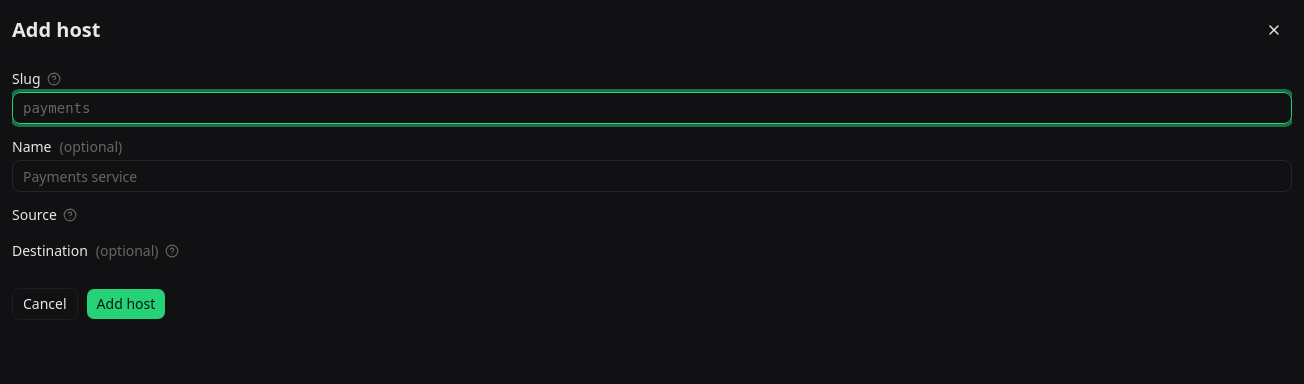
it: new host page validation › rejects missing and malformed slugs and requires a source
Click the button "Add host": x=126, y=304 86,288 -> 166,320
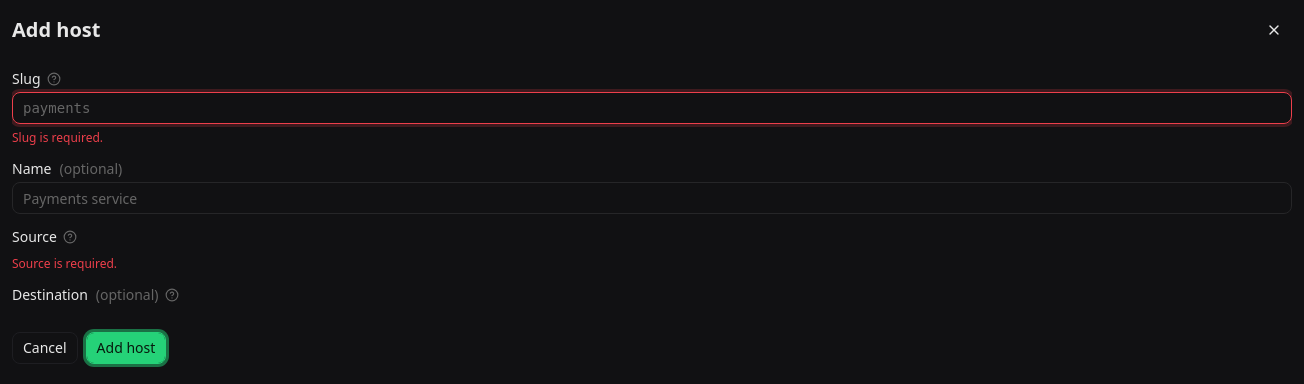
Now the text "Slug is required." is shown, box 12,129 -> 103,146
Now the text "Source is required." is shown, box 12,255 -> 117,272
In the field labelled "Slug": x=652, y=108 12,92 -> 1292,124, type "has space"
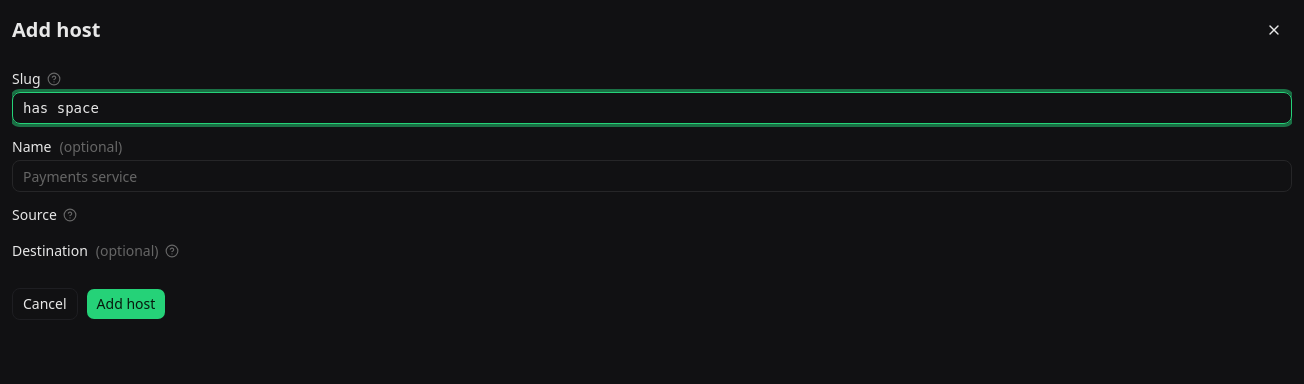
Now the text "Slug is required." is gone
Click the button "Add host": x=126, y=304 86,288 -> 166,320
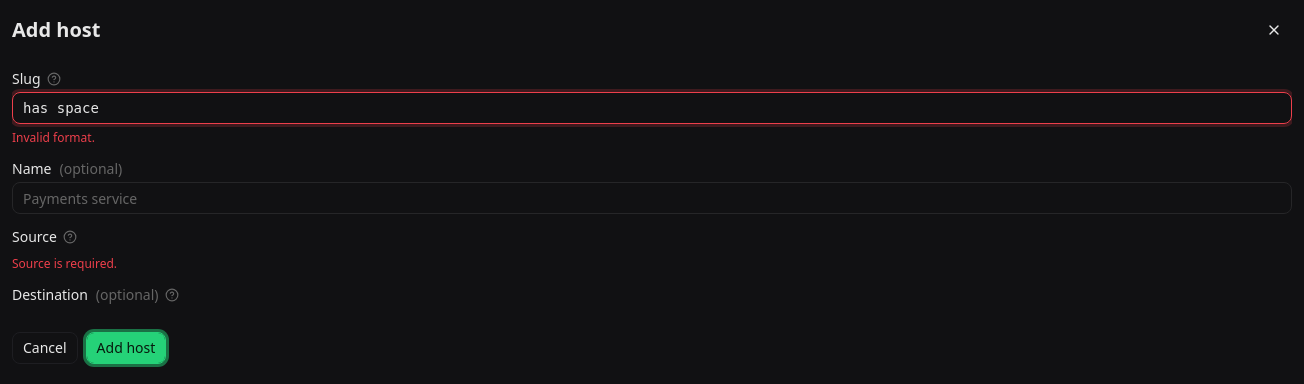
Now the text "Invalid format." is shown, box 12,129 -> 95,146
Replace the text in the field labelled "Slug" with "abcdefghijklm": x=652, y=108 12,92 -> 1292,124
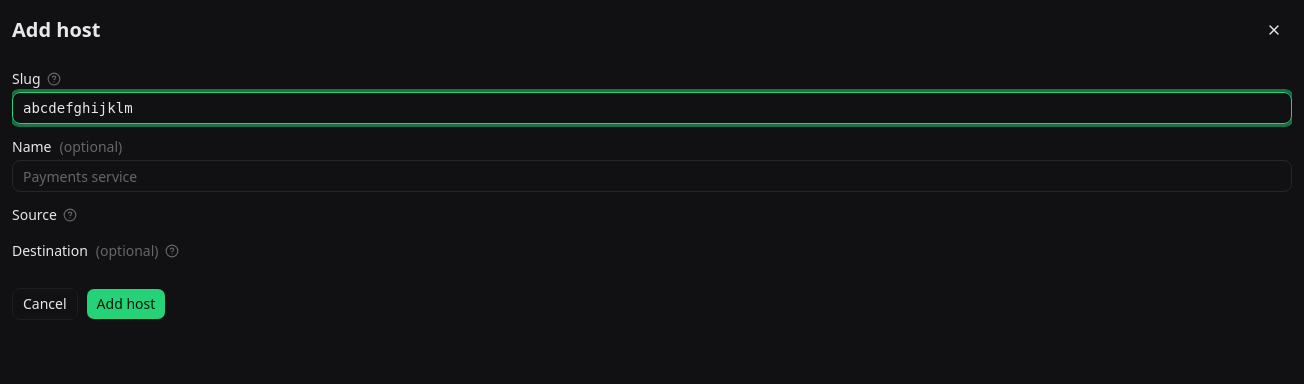
Click the button "Add host": x=126, y=304 86,288 -> 166,320
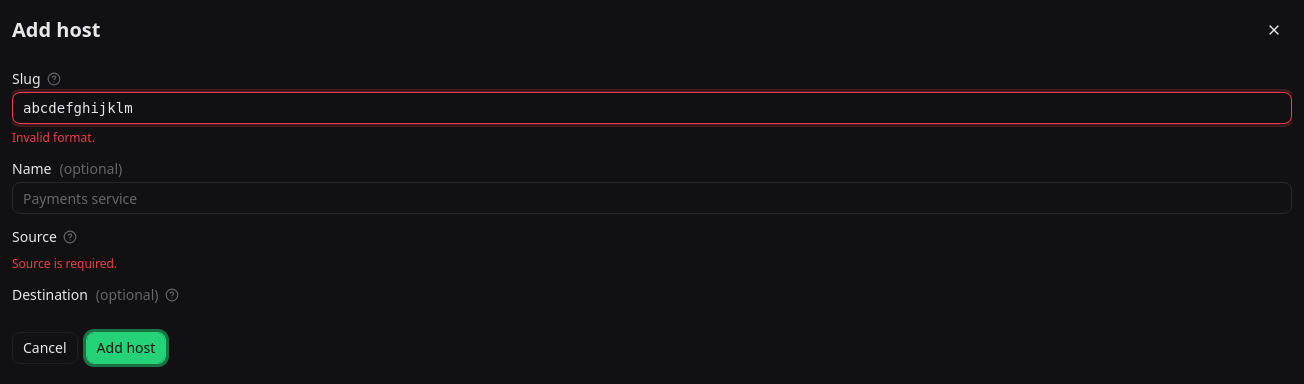
Now the text "Invalid format." is shown, box 12,129 -> 95,146
